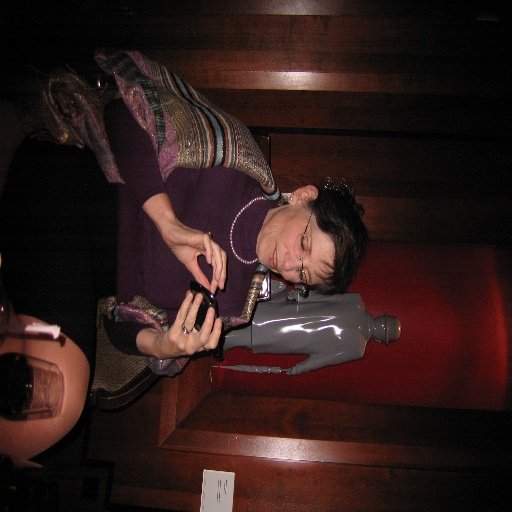hand: (141, 197, 228, 297), (158, 292, 221, 360)
